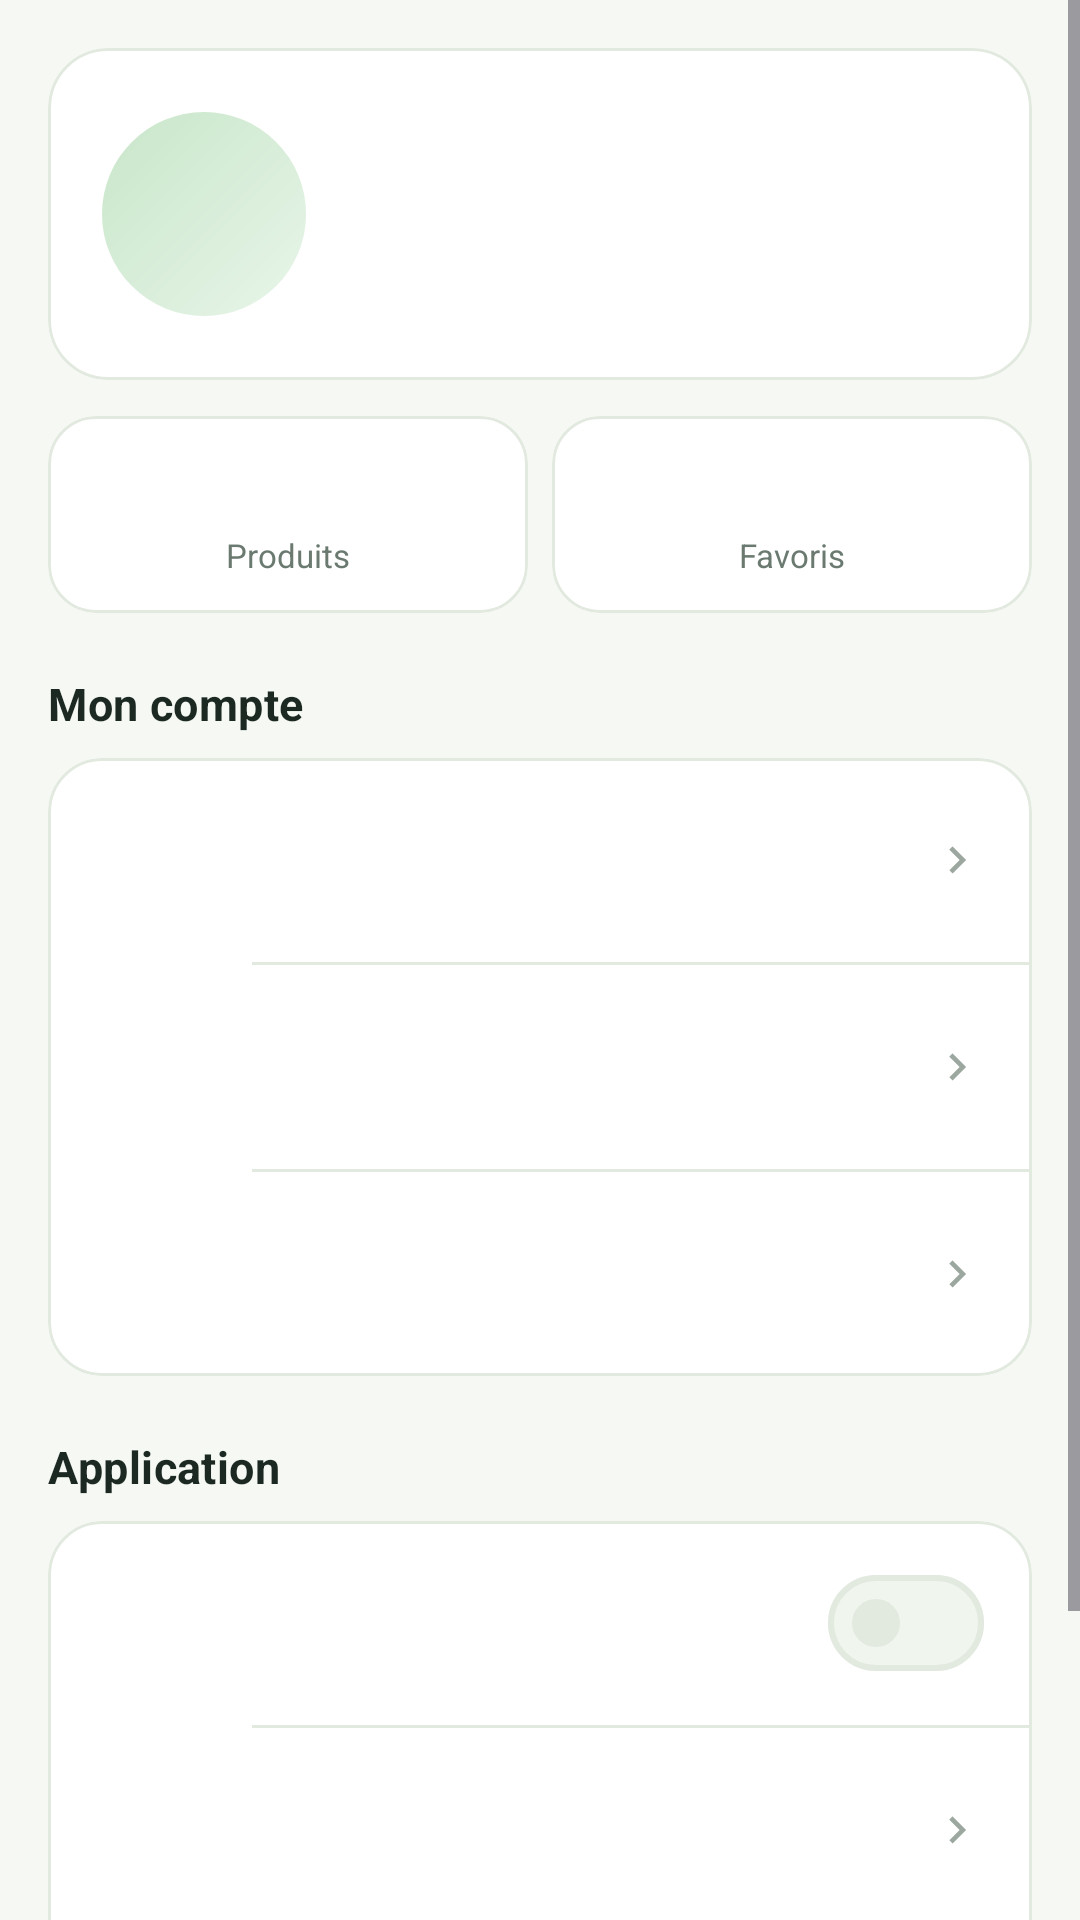

Named icons in this screenshot (1080px x 1920px) and their bounding boxes, (x1, y1, x2, y2):
chevron right: (949, 846, 966, 874), (949, 1053, 966, 1081), (949, 1260, 966, 1288), (949, 1816, 966, 1844)
